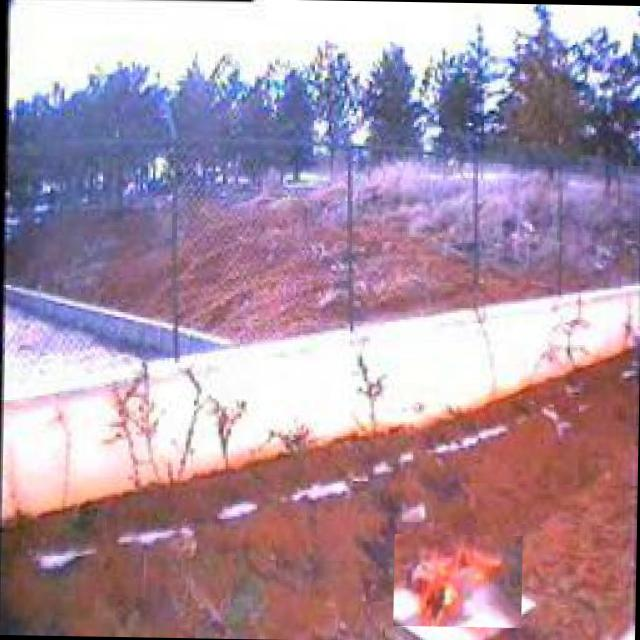fire: (392, 534, 522, 628)
